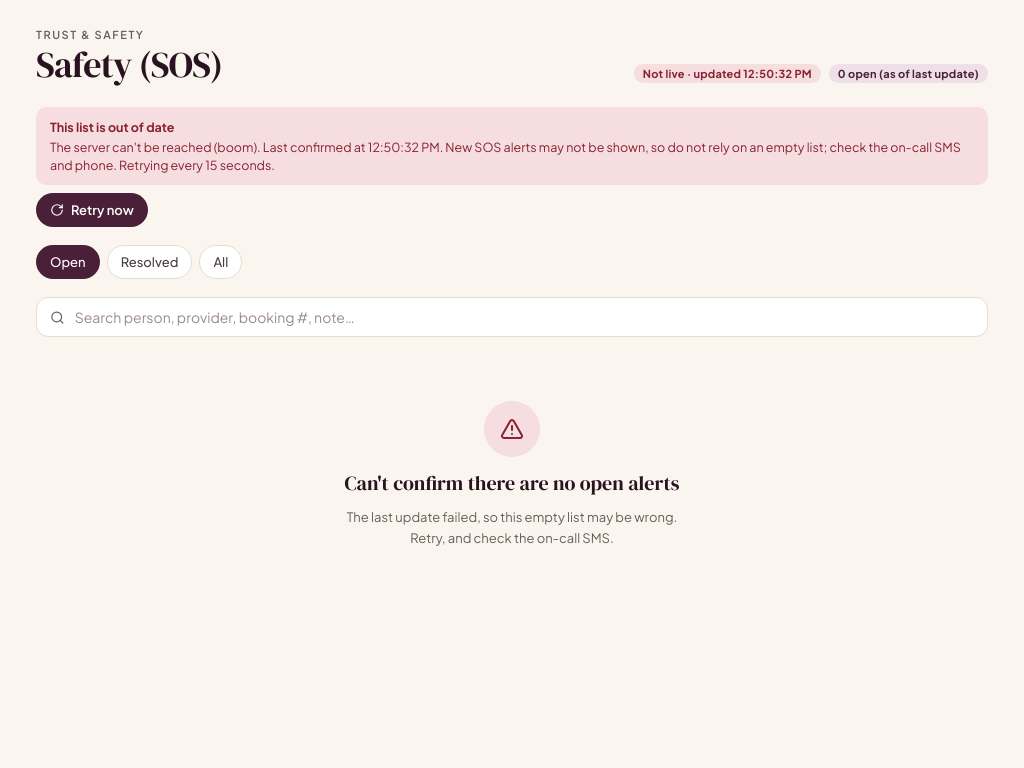
Test: <Safety> - AD-05 stale / offline monitoring › Retry now reloads the list
What coordinates should you click on to do the following:
click the button "Retry now"
I would click on:
 (92, 210)
Its box is [36,193,148,227].
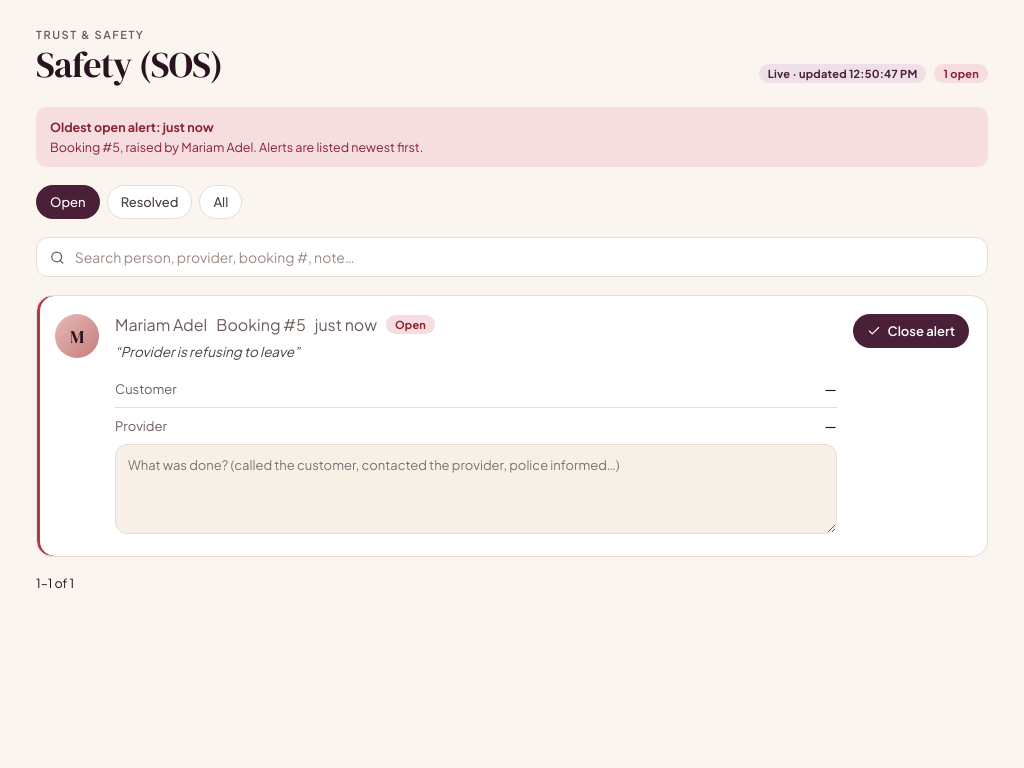
Result: the text "“Provider is refusing to leave”" is shown at [115,343,300,360]
